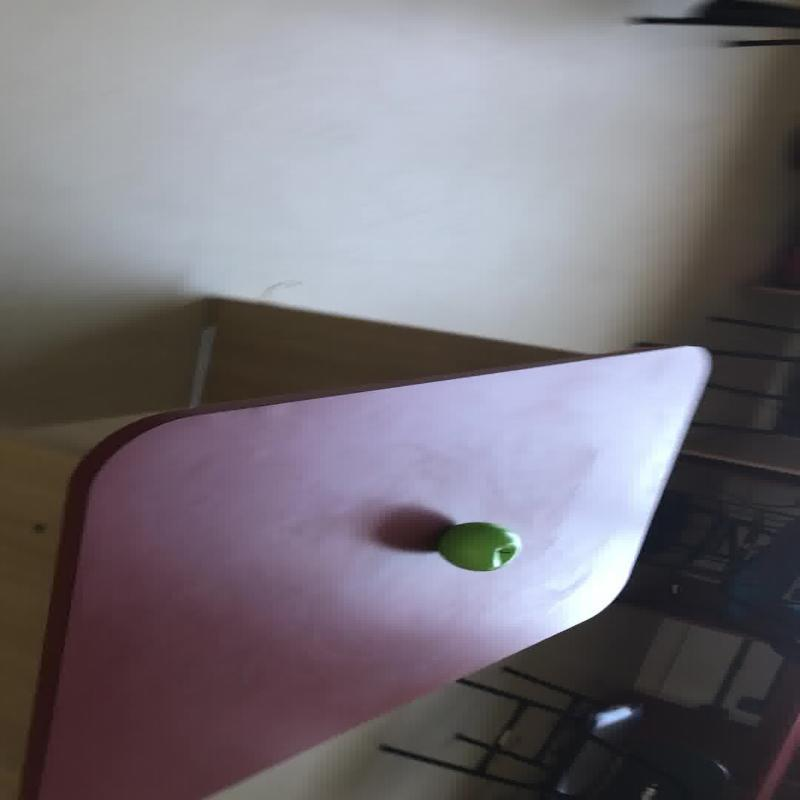apple: (436, 520, 520, 572)
